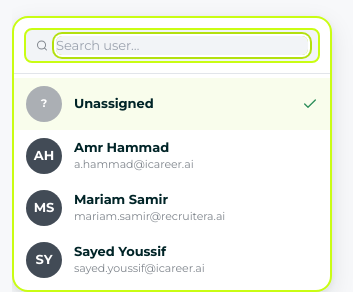
Scenario: OwnerPickerPopover › filters by full_name (case-insensitive)
(page scrolled)
Type "mariam" into the field with placeholder "Search user…" at (182, 45), box [56,36,308,55]
(page scrolled)
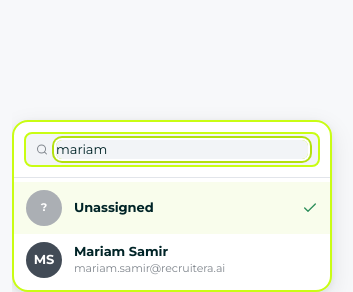
Expected: the text "Mariam Samir" is shown, [74,244,168,260]
Expected: the option "Amr Hammad" is gone
Expected: the option "Sayed Youssif" is gone
